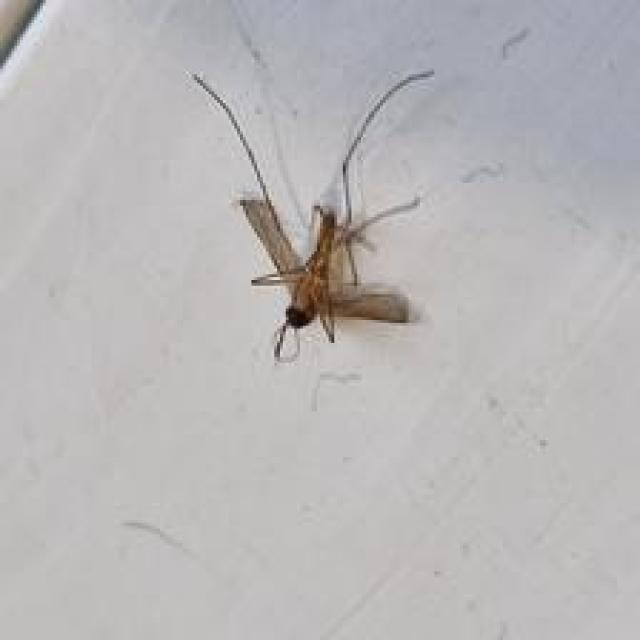Culex: (187, 65, 436, 362)
